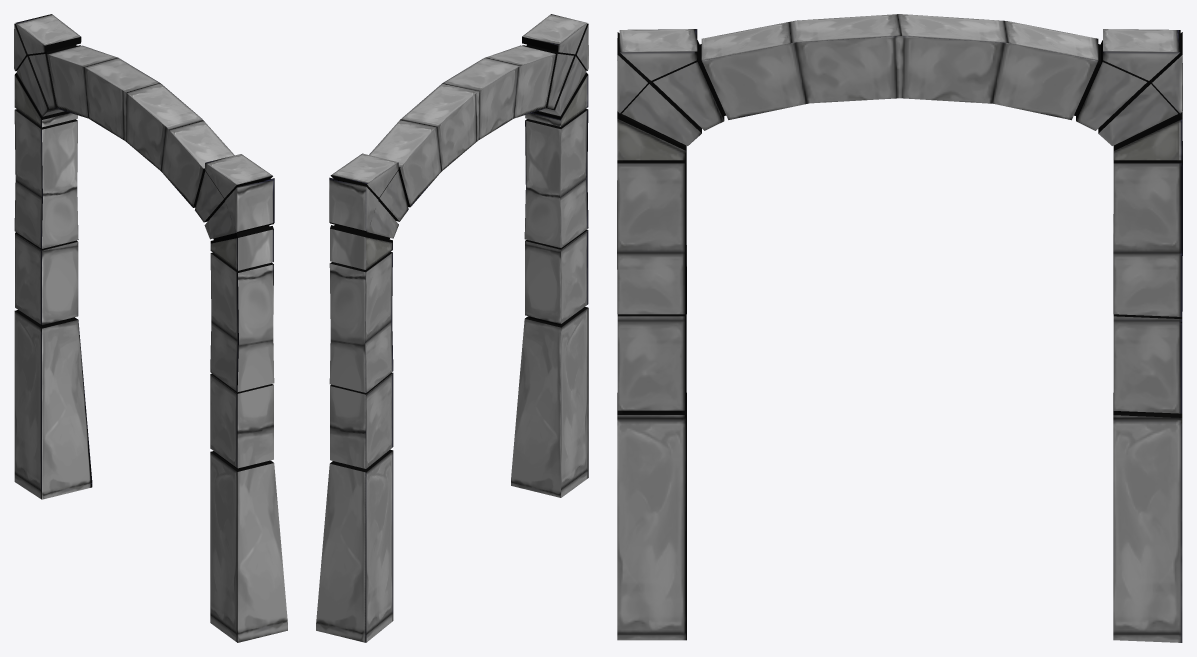
File: Arch_Stone.fbx
3 views of the same model, side by side, from view 1: azimuth 30°, elevation 25°; view 2: azimuth 150°, elevation 25°; view 3: azimuth 270°, elevation 25° (orthographic). The views are drawn at different scales.
Parts seen in each view (by area): view 1: pCube1; view 2: pCube1; view 3: pCube1.
Boxes of the visible parts, left/top/right/bottom form: pCube1: left=14, top=14, right=287, bottom=642; pCube1: left=316, top=14, right=588, bottom=642; pCube1: left=617, top=14, right=1182, bottom=642.
Bounding box in the file's own units: 0.4668 × 4.09 × 3.51.
Materials: 1 (1 with a texture image).
